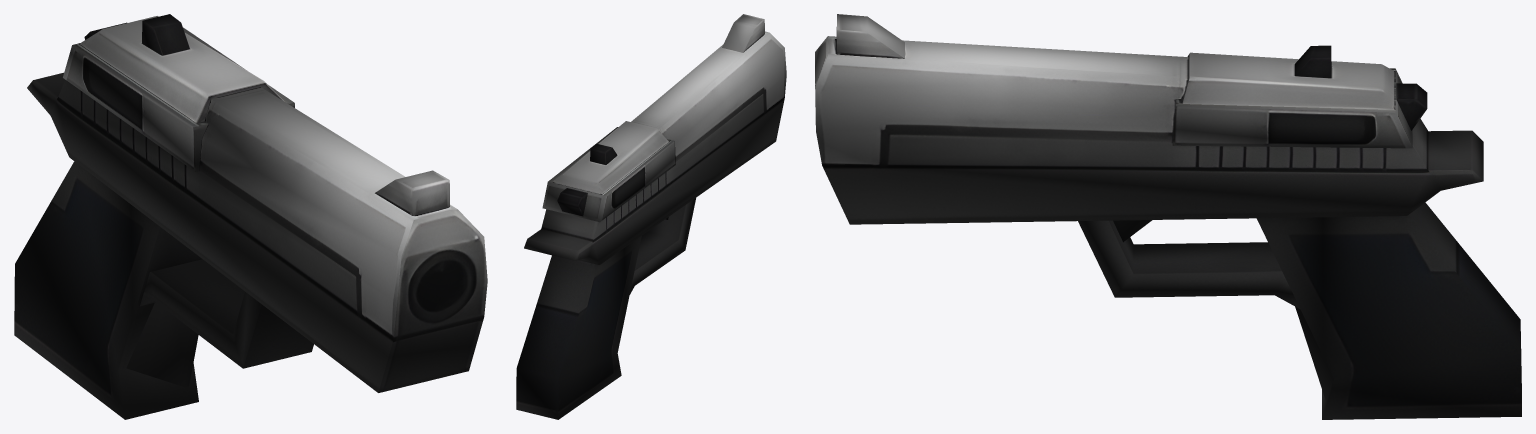
File: Deagle.fbx
The picture shows the model from 3 angles, left to right: view 1: azimuth 30°, elevation 25°; view 2: azimuth 150°, elevation 25°; view 3: azimuth 270°, elevation 25°; orthographic projection. The views are drawn at different scales.
Visible parts, largest first — view 1: Weapon_HandGun_DesertEagle, Deagle_Slide, Deagle_Mag; view 2: Weapon_HandGun_DesertEagle, Deagle_Slide; view 3: Weapon_HandGun_DesertEagle, Deagle_Slide, Deagle_Mag.
Boxes of the visible parts, x1=… form: Weapon_HandGun_DesertEagle: x1=14, y1=72, x2=487, y2=419; Deagle_Slide: x1=63, y1=14, x2=294, y2=171; Deagle_Mag: x1=126, y1=302, x2=198, y2=387; Weapon_HandGun_DesertEagle: x1=516, y1=14, x2=786, y2=419; Deagle_Slide: x1=542, y1=121, x2=675, y2=222; Weapon_HandGun_DesertEagle: x1=815, y1=14, x2=1521, y2=419; Deagle_Slide: x1=1172, y1=45, x2=1427, y2=148; Deagle_Mag: x1=1295, y1=306, x2=1333, y2=401.
Bounding box in the file's own units: 8.77 × 35.2 × 59.1.
